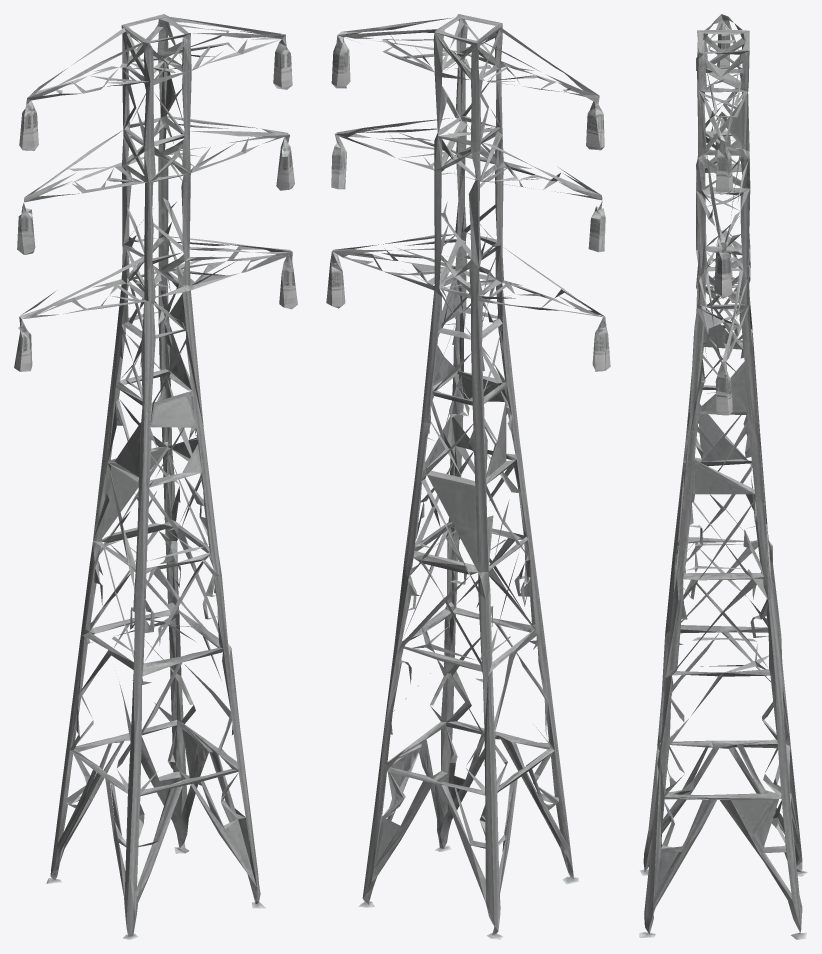
Rendered from pylon.glb.
3 views of the same model, side by side, from view 1: azimuth 30°, elevation 25°; view 2: azimuth 150°, elevation 25°; view 3: azimuth 270°, elevation 25° (orthographic).
Bounding box in the file's own units: 0.6407 × 1.9 × 0.3361.
1 material, 1 textured.
